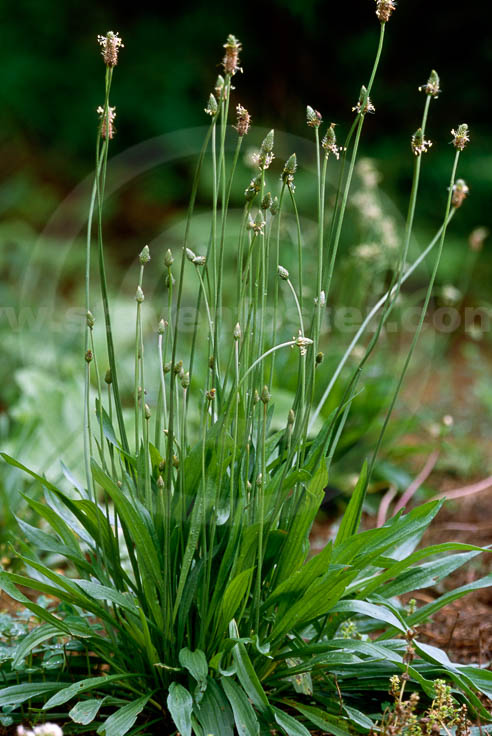buckhorn plantain: (48, 20, 478, 736)
